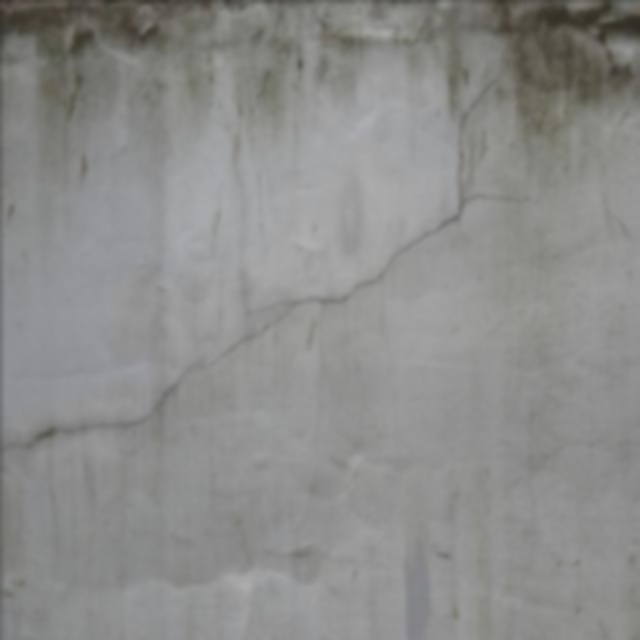SurfaceCrack: (0, 154, 523, 497)
